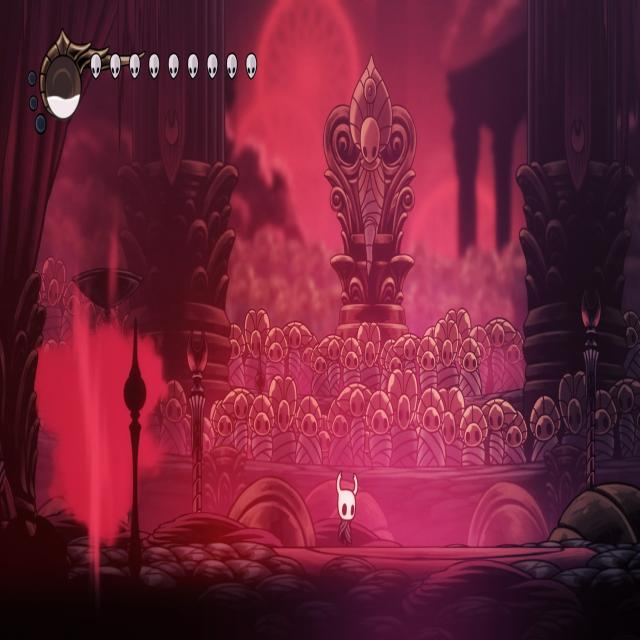Player: (335, 466, 359, 549)
